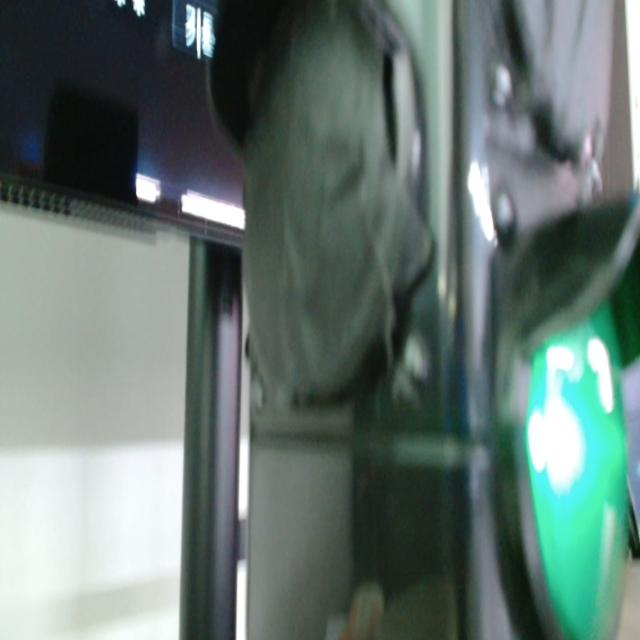green_light: (527, 307, 626, 639)
